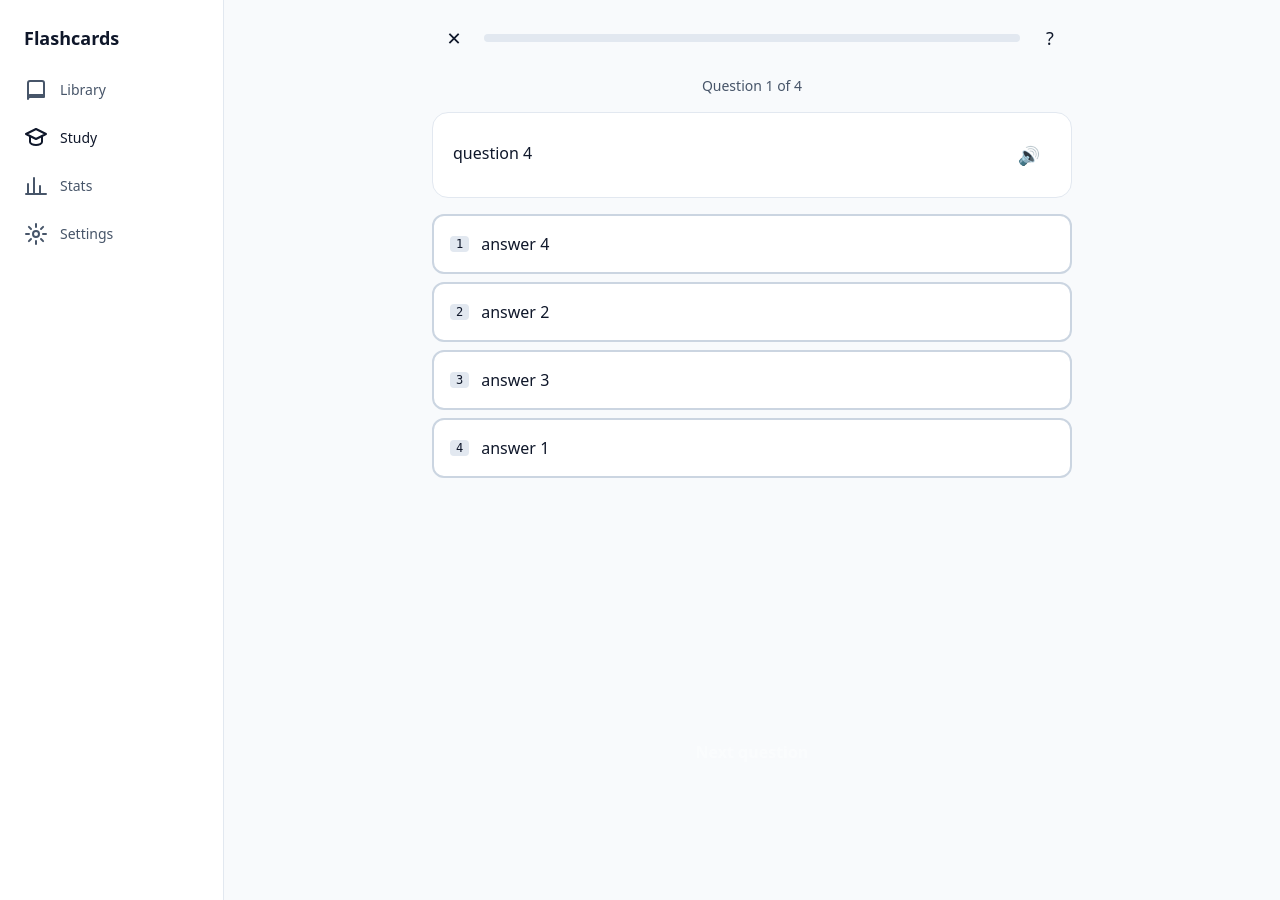
Test: trouble detection outside Learn › a wrong quiz answer flags a card with low accuracy, offers Fix it, and leaves scheduling alone
Click the button "2 answer 2".
click(515, 312)  # box [432,282,1072,342]
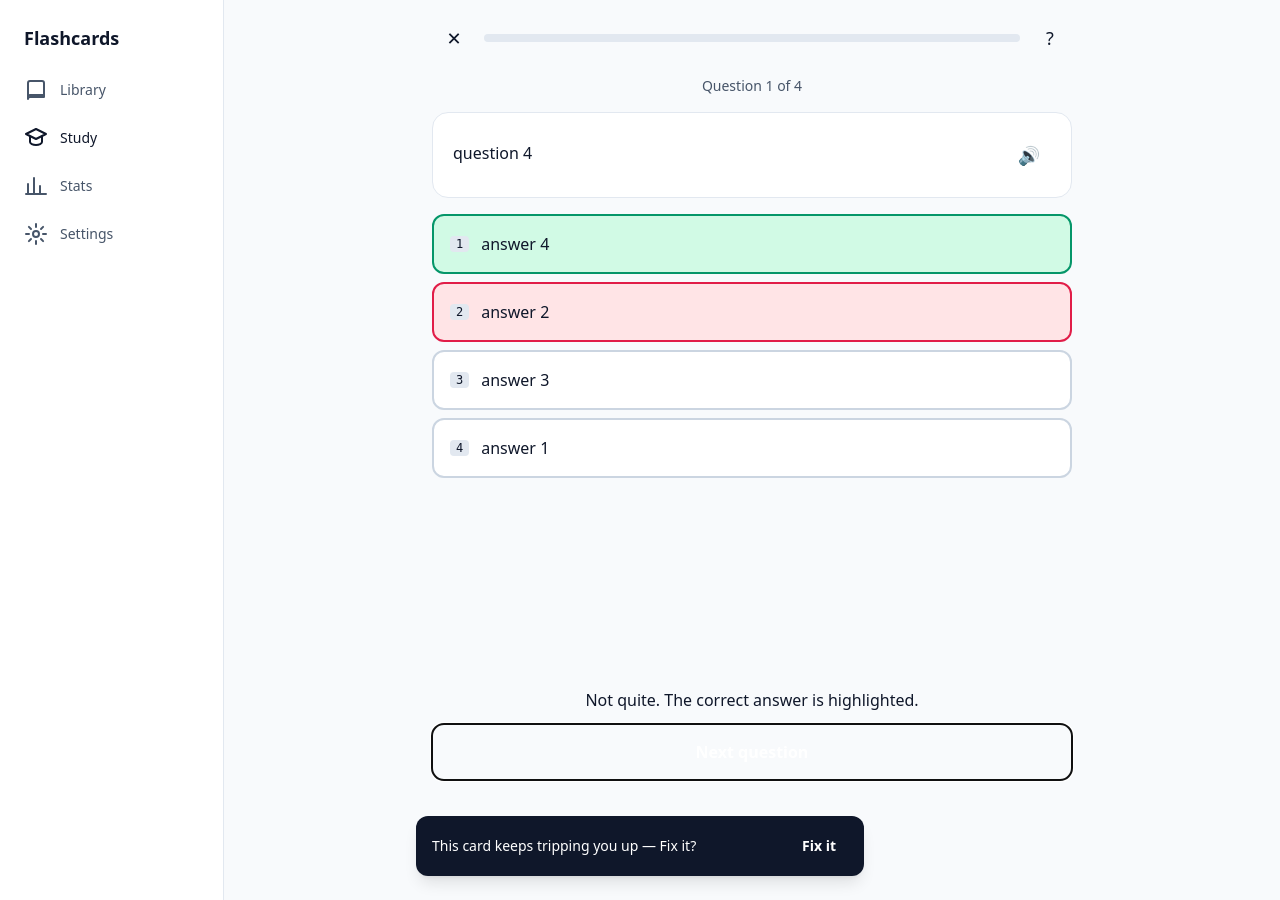
Check: the text "This card keeps tripping you up — Fix it?" is shown, box [432,836,696,856]
Check: the button "Fix it" is shown, box [790,824,848,868]
